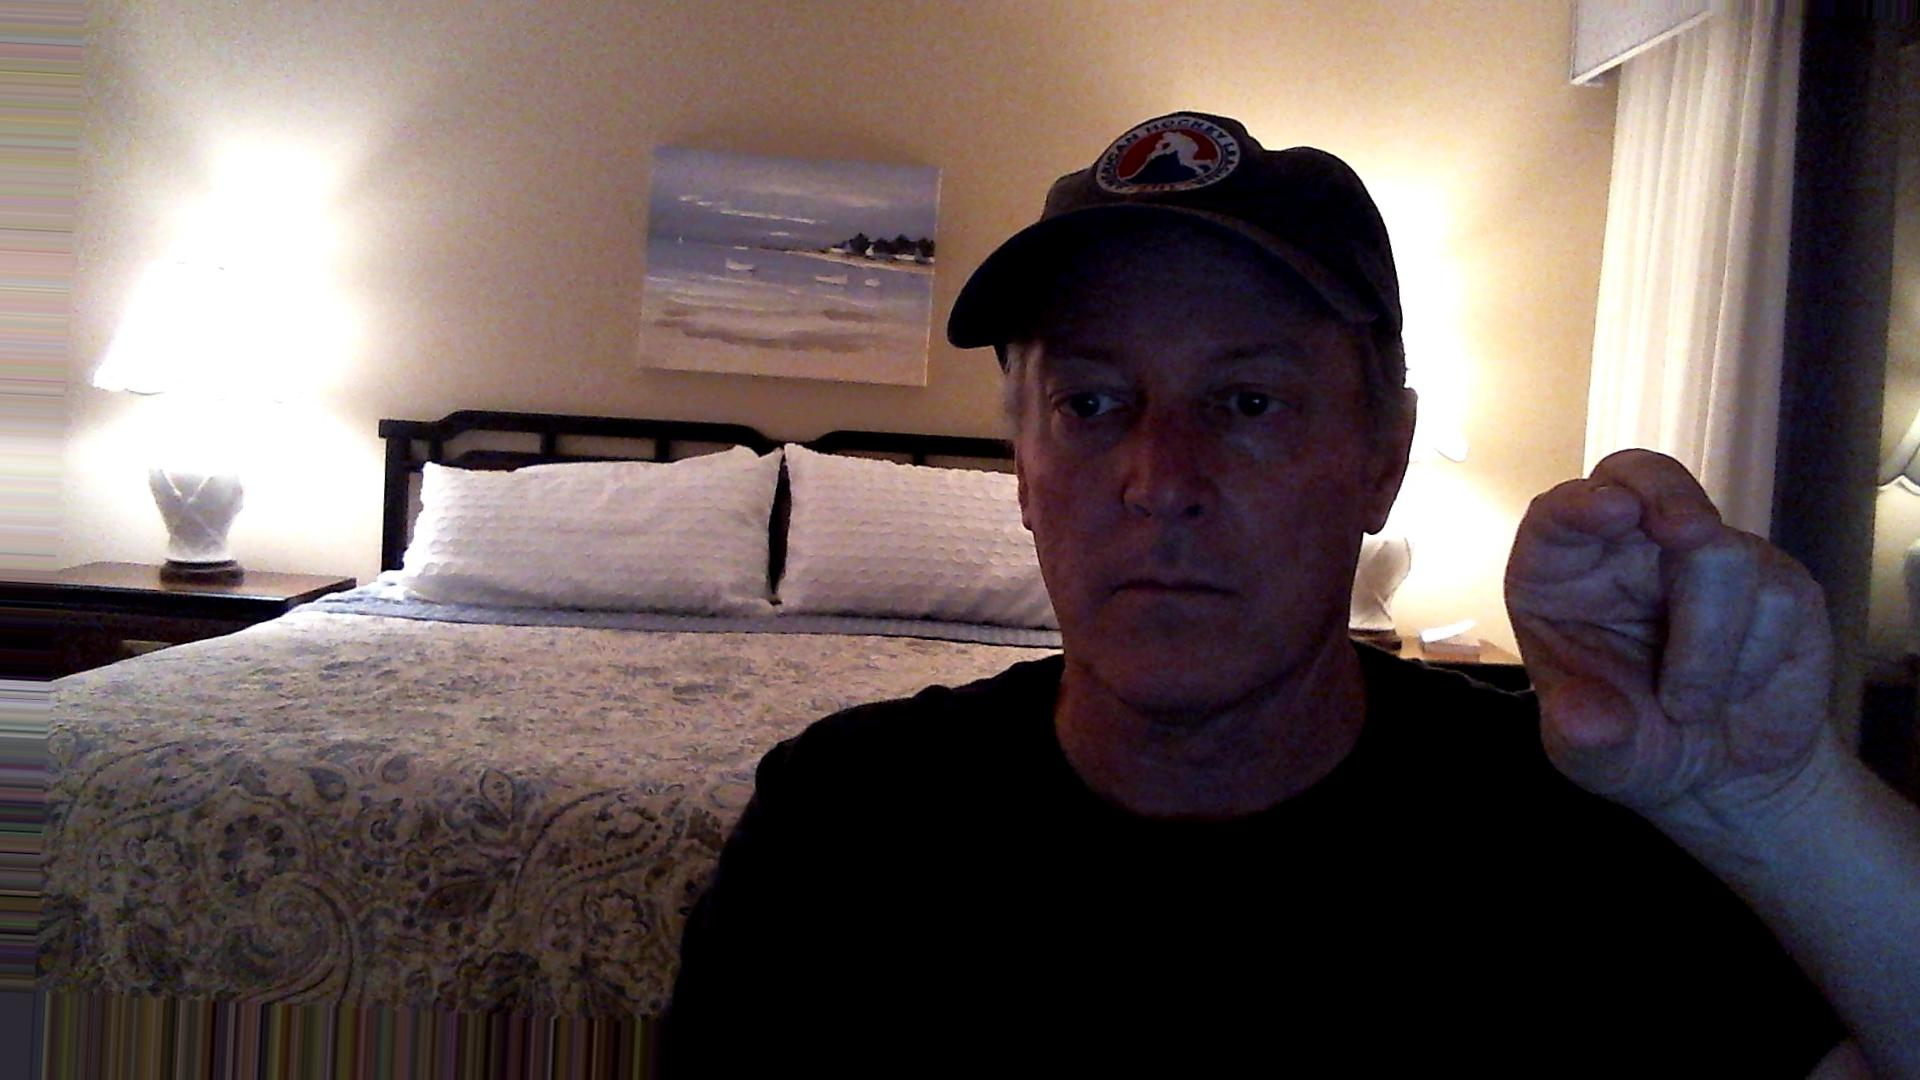No: (1493, 435, 1859, 851)
